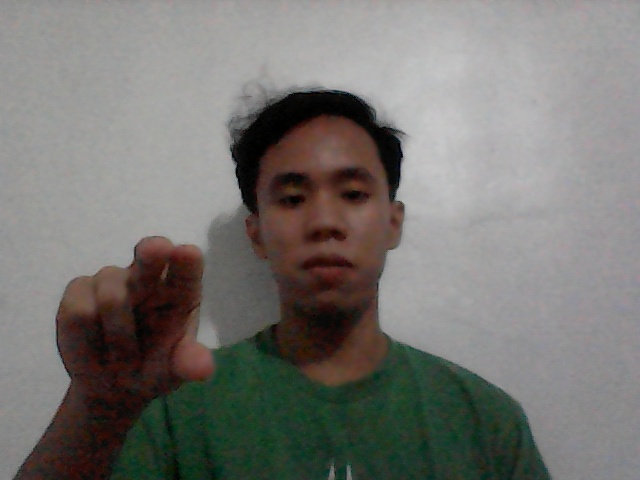No: (33, 220, 256, 417)
